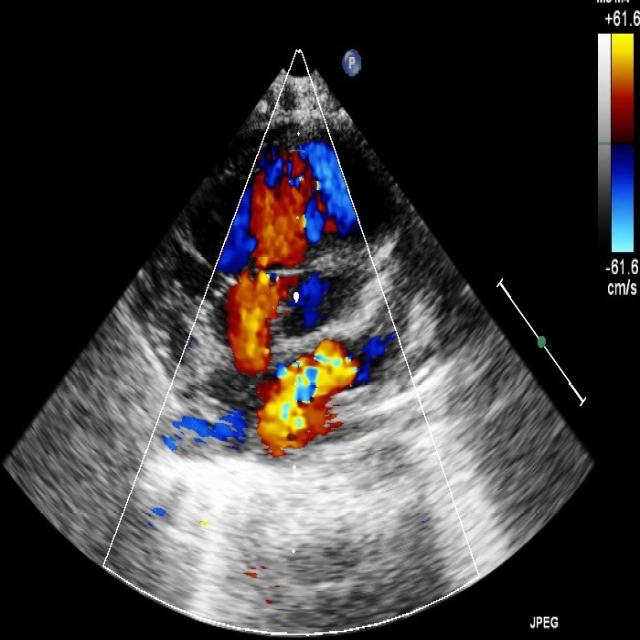VSDType2: (224, 144, 308, 457)
